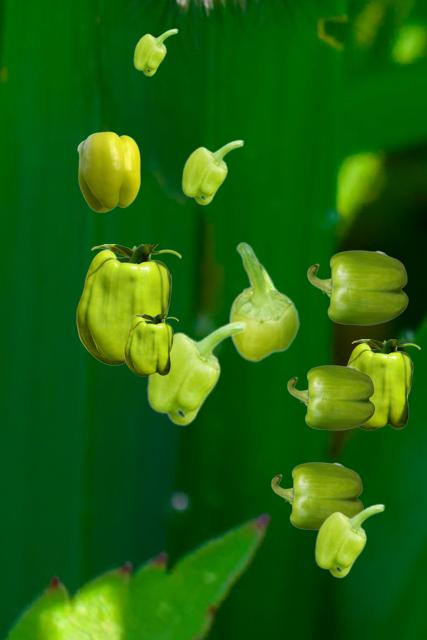bell_pepper: (76, 244, 180, 364), (146, 320, 246, 425), (228, 242, 299, 361), (307, 250, 407, 324), (346, 339, 419, 429), (271, 462, 362, 529), (287, 365, 374, 429), (314, 503, 384, 577), (77, 131, 139, 211), (181, 139, 243, 204), (124, 314, 177, 375), (133, 28, 177, 75)
